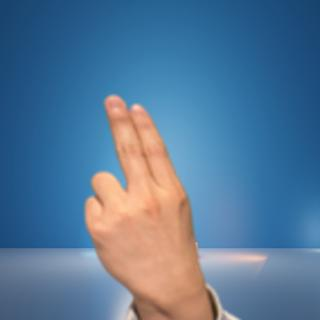DHAVE: (69, 86, 212, 304)
